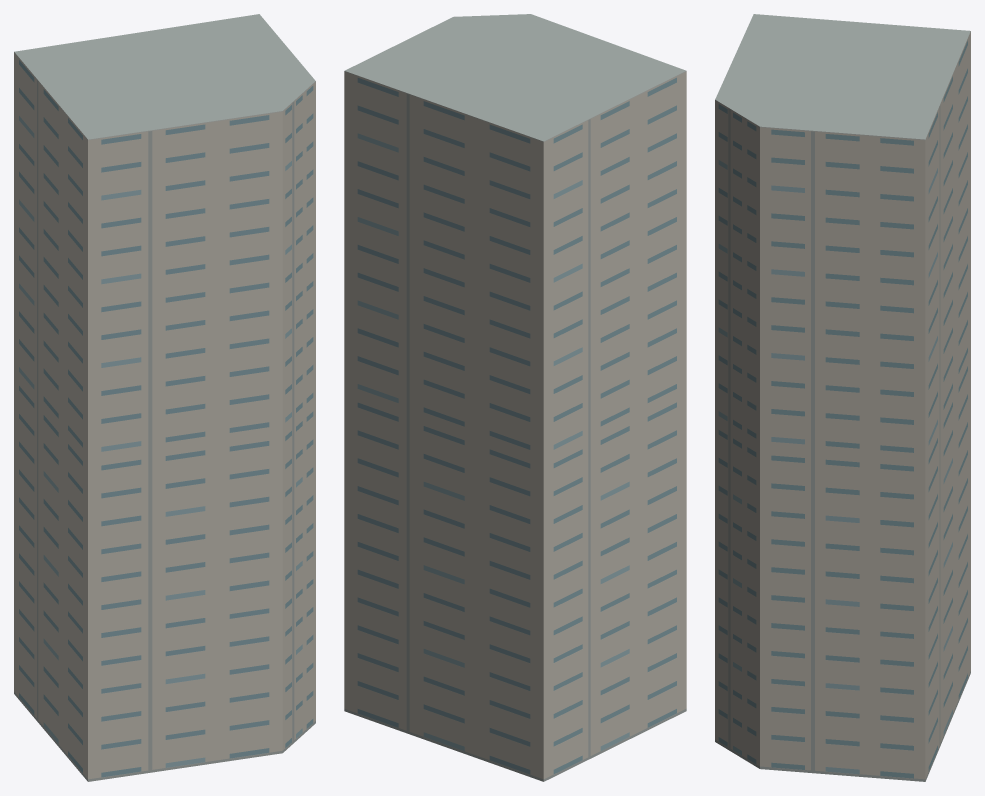
File: survey-upis-32702773.glb
The picture shows the model from 3 angles, left to right: view 1: azimuth 30°, elevation 25°; view 2: azimuth 150°, elevation 25°; view 3: azimuth 270°, elevation 25°; orthographic projection.
Parts seen in each view (by area): view 1: survey-upis-32702773.tmp; view 2: survey-upis-32702773.tmp; view 3: survey-upis-32702773.tmp.
Part boxes in pixels (x1,y1,x2,y2): survey-upis-32702773.tmp: (14,14,315,781); survey-upis-32702773.tmp: (344,14,686,781); survey-upis-32702773.tmp: (715,14,970,781).
Bounding box in the file's own units: 88.22 × 210 × 75.94.
